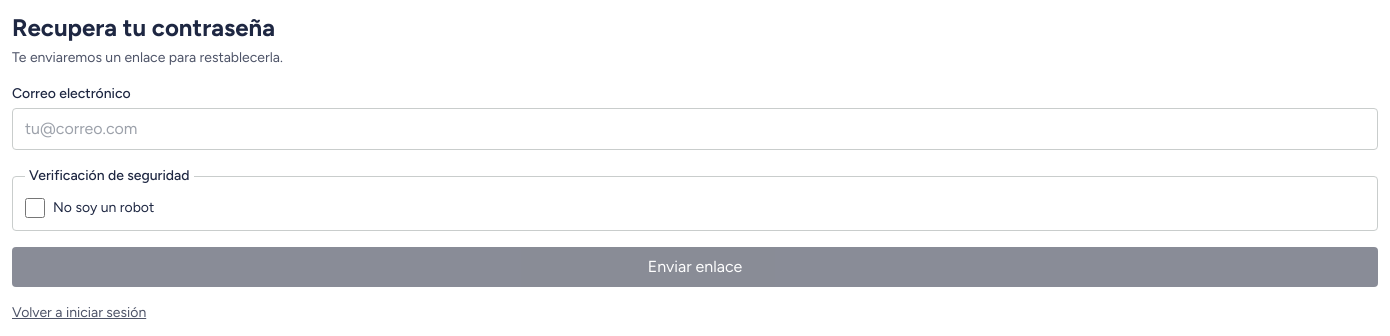
US-004 FE-001 — ForgotPasswordForm (202 neutro) › AC-01/AC-03: submit con captcha → mensaje neutro (idéntico exista o no el email)
Expected: the button "Enviar enlace" is disabled, [12,247,1378,287]
Type "cualquiera@eventflow.test" into the field labelled "Correo electrónico".
click(695, 129); type("cualquiera@eventflow.test")  # box [12,108,1378,150]
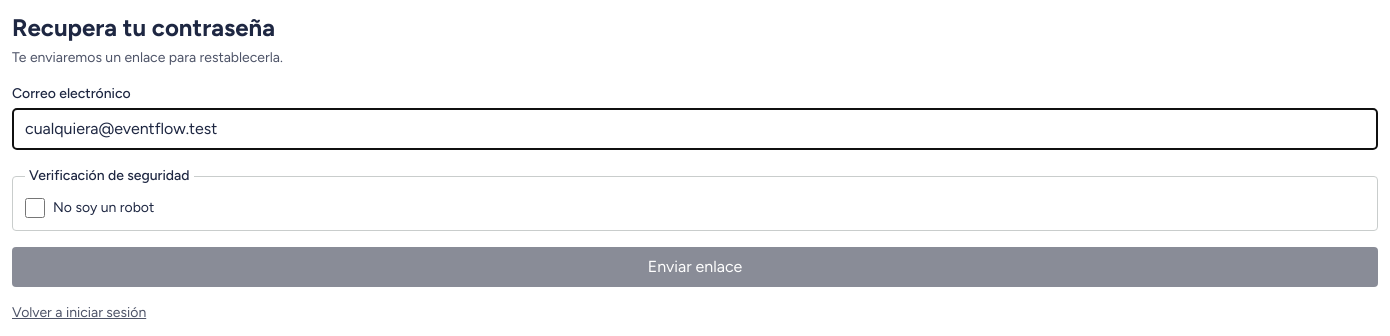
Click the checkbox labelled "No soy un robot".
click(35, 208)  # box [25,198,45,218]
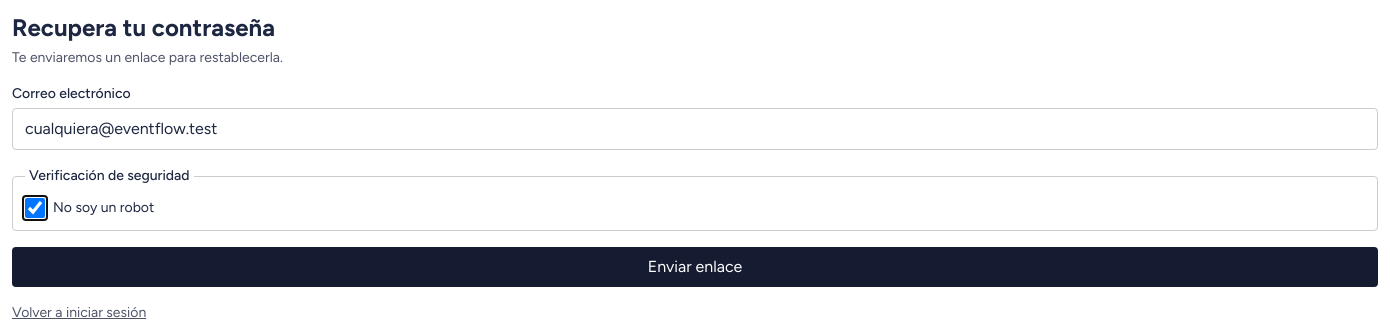
Click the button "Enviar enlace".
click(695, 267)  # box [12,247,1378,287]
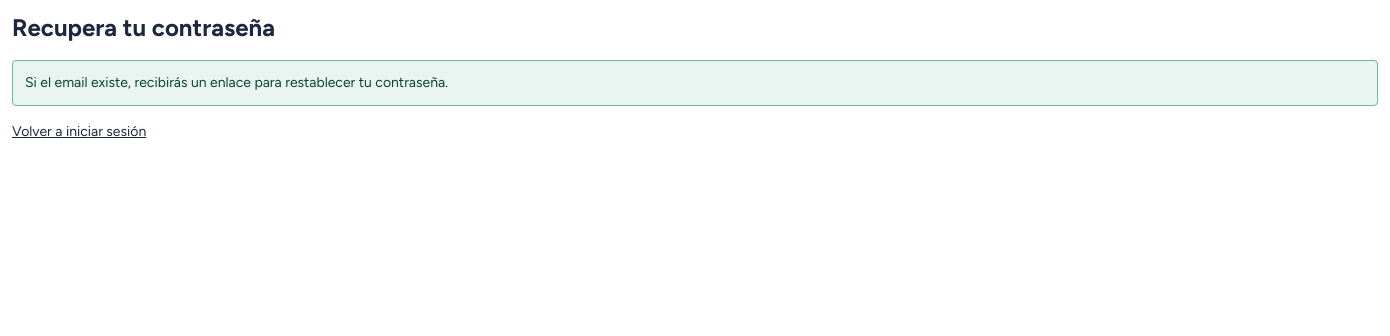
Now the text "Si el email existe, recibirás un enlace para restablecer tu contraseña." is shown, box [12,60,1378,106]
